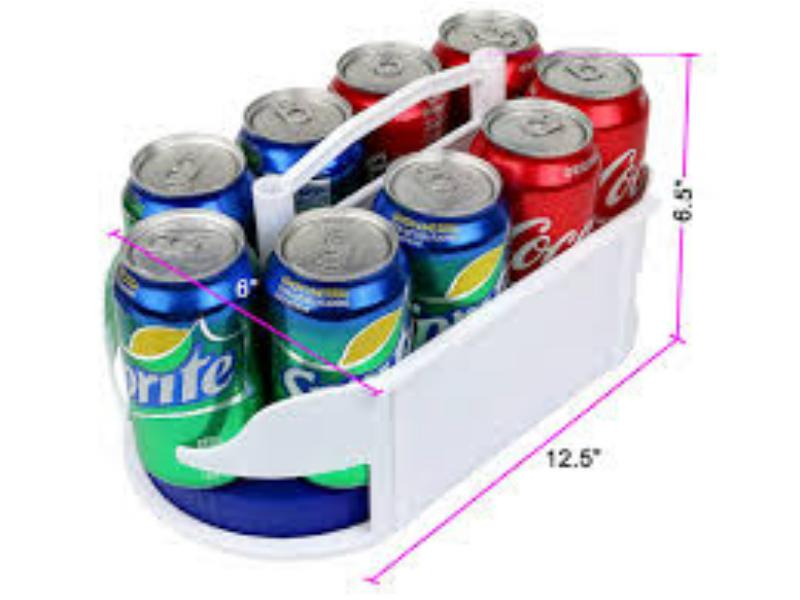can: (113, 204, 266, 494), (269, 204, 420, 406), (384, 146, 513, 317), (481, 99, 602, 259), (126, 130, 262, 217), (237, 80, 361, 172), (326, 36, 448, 121), (437, 1, 541, 84), (525, 43, 658, 101)
